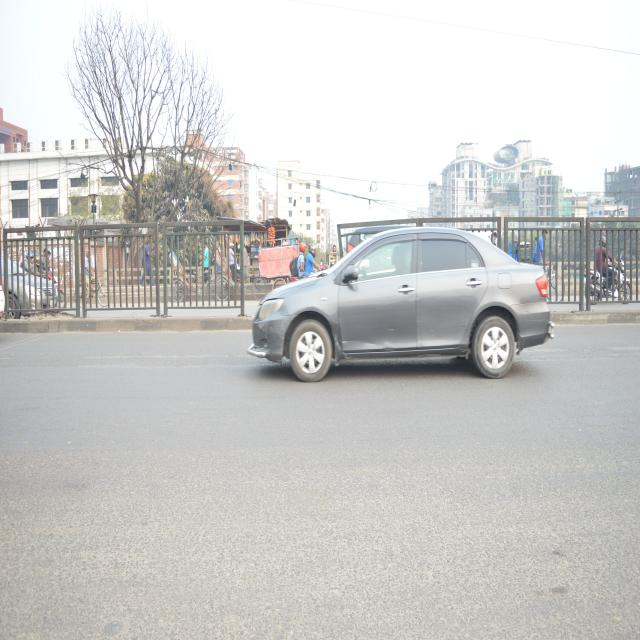car: (245, 226, 552, 403), (5, 252, 53, 328)
motorbike: (575, 244, 631, 322)
